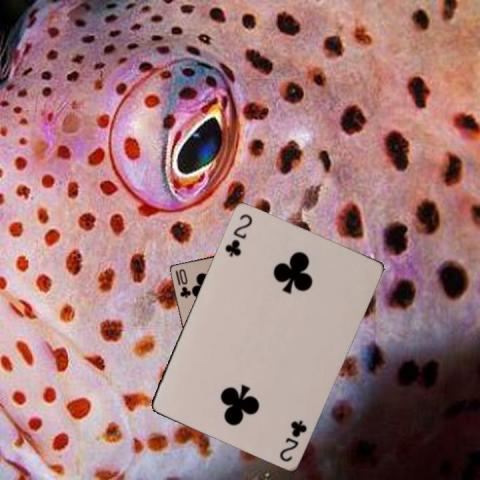10c: (172, 266, 192, 299)
2c: (221, 210, 254, 258), (276, 416, 309, 463)
